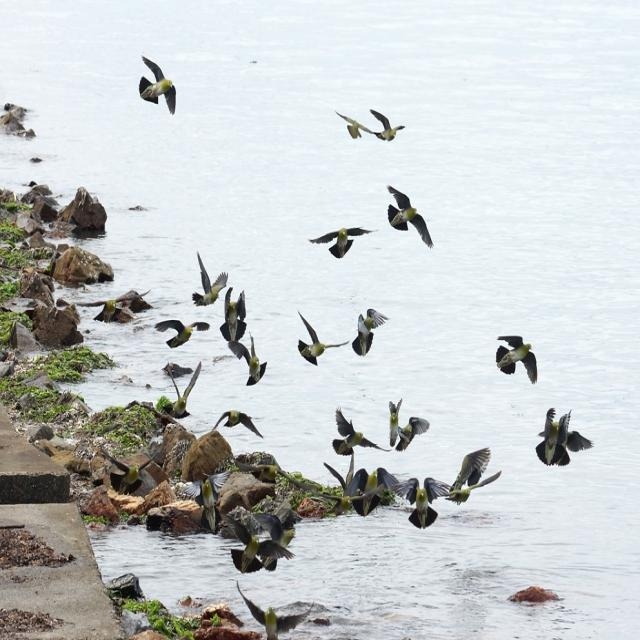bird: (234, 582, 316, 640), (531, 405, 590, 470), (439, 444, 498, 506), (385, 185, 434, 252), (308, 225, 374, 264), (139, 58, 181, 116), (333, 408, 384, 454), (189, 251, 230, 308), (348, 308, 391, 357), (494, 337, 538, 384), (387, 410, 431, 456), (157, 375, 198, 423), (99, 289, 158, 322), (219, 288, 250, 350), (80, 485, 121, 529), (296, 312, 330, 365), (156, 316, 208, 349), (216, 411, 265, 445), (407, 484, 442, 530), (368, 110, 407, 147), (238, 342, 270, 387), (322, 459, 361, 494), (335, 110, 375, 144)
